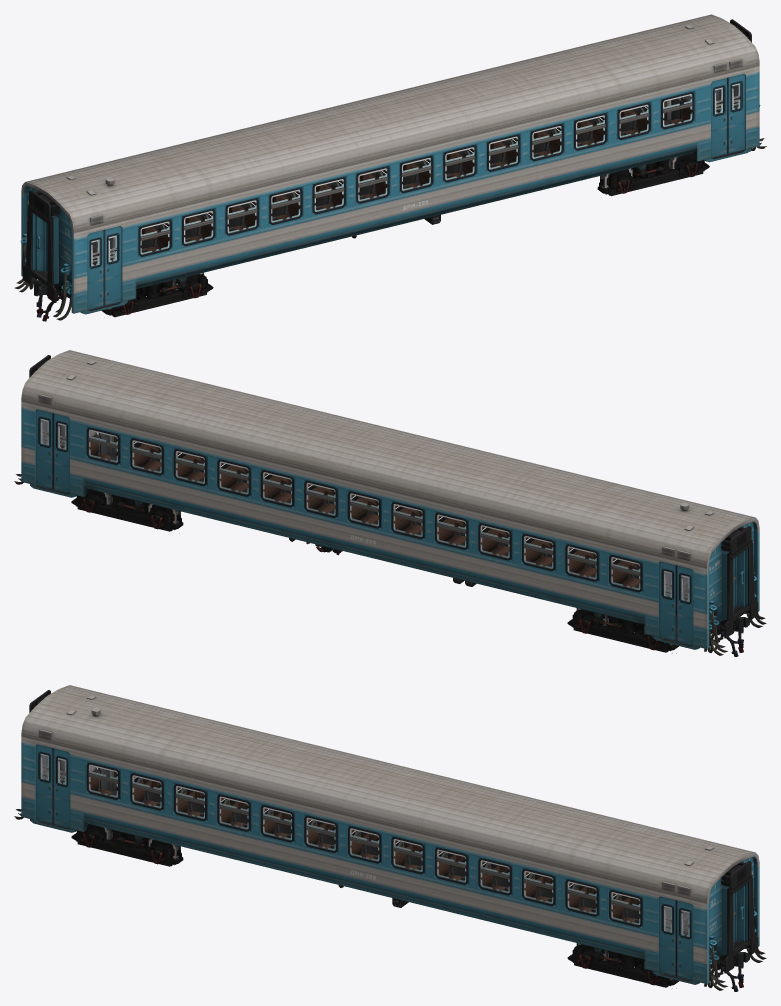
Rendered from mvp_ir_dr1a_trailed.obj.
3 renders of one model, top to bottom at view 1: azimuth 30°, elevation 25°; view 2: azimuth 150°, elevation 25°; view 3: azimuth 330°, elevation 25°, orthographic.
Parts seen in each view (by area): view 1: FRAME_mvp_dr1a_trailed, INTERIOR_1_LCG_IL_mvp_dr1a_trailed, BOGEY_REAR_mvp_dr1a_trailed, BOGEY_FRONT_mvp_dr1a_trailed, DOOR_1_EXTERNAL_mvp_dr1a_trailed, DOOR_3_EXTERNAL_CG_DL_NOINTERACT, DOOR_1_EXTERNAL_CG_DL_NOINTERACT, DOOR_3_EXTERNAL_mvp_dr1a_trailed, COUPLED_FRONT_1_HIDE_INVERT_mvp_dr1a; view 2: FRAME_mvp_dr1a_trailed, INTERIOR_1_LCG_IL_mvp_dr1a_trailed, BOGEY_REAR_mvp_dr1a_trailed, BOGEY_FRONT_mvp_dr1a_trailed, DOOR_4_EXTERNAL_mvp_dr1a_trailed, DOOR_2_EXTERNAL_mvp_dr1a_trailed, DOOR_2_EXTERNAL_CG_DR_NOINTERACT, DOOR_4_EXTERNAL_CG_DR_NOINTERACT; view 3: FRAME_mvp_dr1a_trailed, INTERIOR_1_LCG_IL_mvp_dr1a_trailed, BOGEY_FRONT_mvp_dr1a_trailed, BOGEY_REAR_mvp_dr1a_trailed, DOOR_1_EXTERNAL_mvp_dr1a_trailed, DOOR_3_EXTERNAL_mvp_dr1a_trailed, DOOR_3_EXTERNAL_CG_DL_NOINTERACT, DOOR_1_EXTERNAL_CG_DL_NOINTERACT.
Part boxes in pixels (x1,y1,x2,y2): FRAME_mvp_dr1a_trailed: (21, 14, 759, 314); INTERIOR_1_LCG_IL_mvp_dr1a_trailed: (89, 85, 740, 309); BOGEY_REAR_mvp_dr1a_trailed: (597, 156, 709, 196); BOGEY_FRONT_mvp_dr1a_trailed: (101, 274, 213, 317); DOOR_1_EXTERNAL_mvp_dr1a_trailed: (87, 230, 104, 309); DOOR_3_EXTERNAL_CG_DL_NOINTERACT: (728, 73, 745, 153); DOOR_1_EXTERNAL_CG_DL_NOINTERACT: (104, 226, 121, 305); DOOR_3_EXTERNAL_mvp_dr1a_trailed: (711, 77, 727, 157); COUPLED_FRONT_1_HIDE_INVERT_mvp_dr1a: (14, 244, 71, 320); FRAME_mvp_dr1a_trailed: (21, 350, 759, 649); INTERIOR_1_LCG_IL_mvp_dr1a_trailed: (40, 420, 692, 645); BOGEY_REAR_mvp_dr1a_trailed: (71, 492, 183, 531); BOGEY_FRONT_mvp_dr1a_trailed: (567, 609, 678, 652); DOOR_4_EXTERNAL_mvp_dr1a_trailed: (36, 409, 53, 488); DOOR_2_EXTERNAL_mvp_dr1a_trailed: (659, 561, 676, 640); DOOR_2_EXTERNAL_CG_DR_NOINTERACT: (676, 565, 693, 644); DOOR_4_EXTERNAL_CG_DR_NOINTERACT: (53, 413, 69, 492); FRAME_mvp_dr1a_trailed: (21, 685, 759, 984); INTERIOR_1_LCG_IL_mvp_dr1a_trailed: (40, 755, 692, 980); BOGEY_FRONT_mvp_dr1a_trailed: (71, 827, 183, 866); BOGEY_REAR_mvp_dr1a_trailed: (567, 944, 678, 987); DOOR_1_EXTERNAL_mvp_dr1a_trailed: (36, 744, 53, 823); DOOR_3_EXTERNAL_mvp_dr1a_trailed: (659, 896, 676, 975); DOOR_3_EXTERNAL_CG_DL_NOINTERACT: (676, 900, 693, 979); DOOR_1_EXTERNAL_CG_DL_NOINTERACT: (53, 748, 70, 827).
Size of the model in its own units: 25.51 by 4.57 by 3.27.
